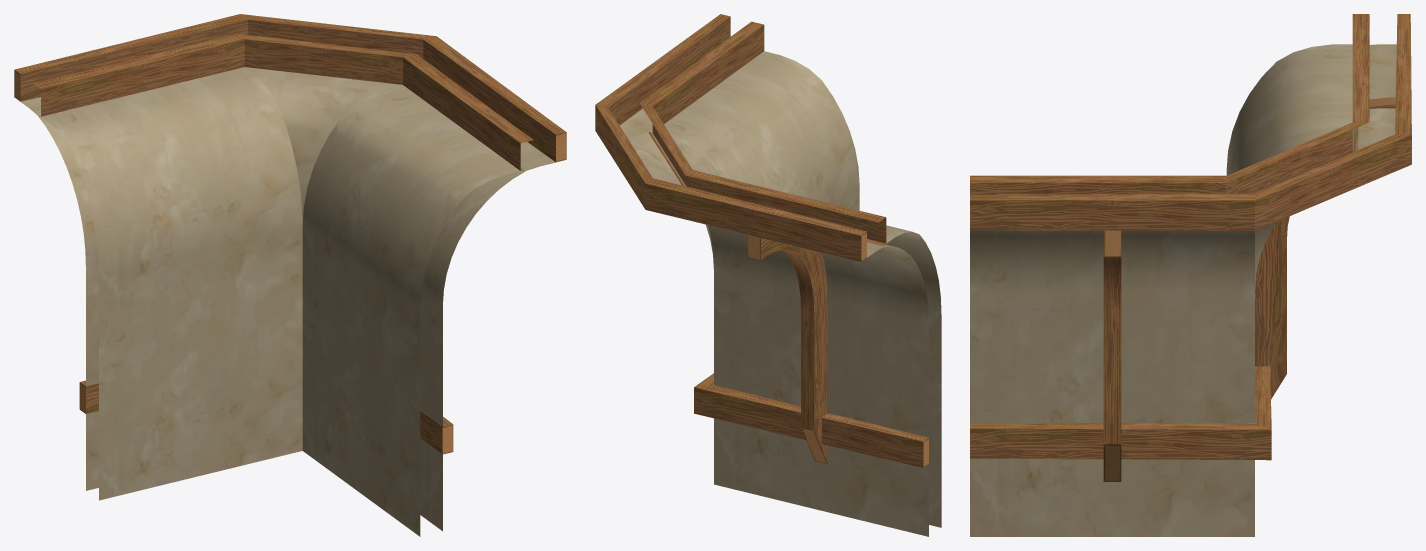
The model's file is overhang_plaster_corner.glb.
The picture shows the model from 3 angles, left to right: view 1: azimuth 30°, elevation 25°; view 2: azimuth 150°, elevation 25°; view 3: azimuth 270°, elevation 25°; orthographic projection. The views are drawn at different scales.
Bounding box in the file's own units: 3.1 × 3.12 × 3.1.
2 materials, 2 textured.
